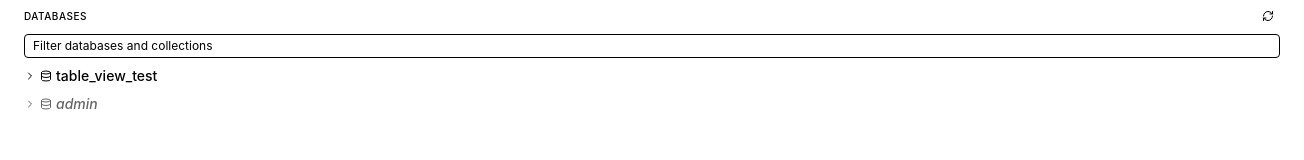
Test: DocumentDatabaseTree › auto-expands a database whose collections match the query
// Pre-load the collection cache so the search has data to match against.
Step 1. Click the list item with aria-label "table_view_test database" → (107, 75), box [12,62,1292,90]
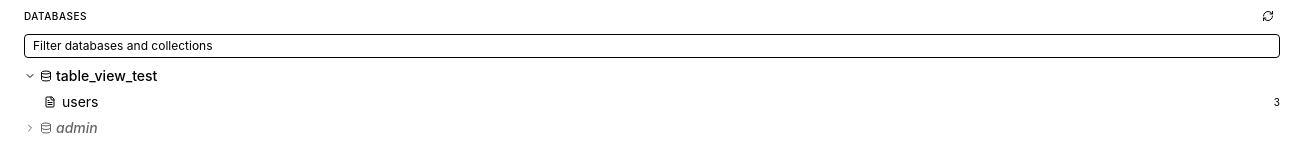
Check: the list item with aria-label "users collection" is shown, box [12,90,1292,114]
// Collapse it again so we can verify the search expands automatically.
Step 2. Click the list item with aria-label "table_view_test database" → (107, 75), box [12,62,1292,90]
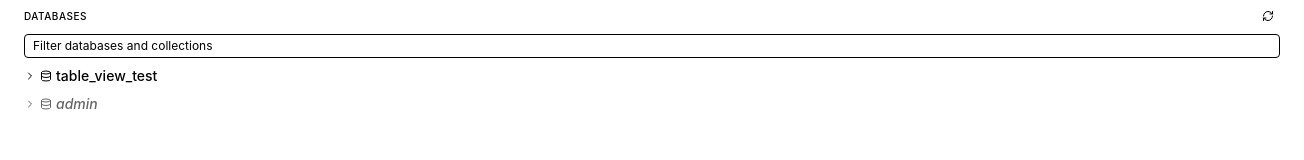
Step 3. Type "user" into the search field labelled "Filter databases and collections" → (652, 46), box [24,34,1280,58]
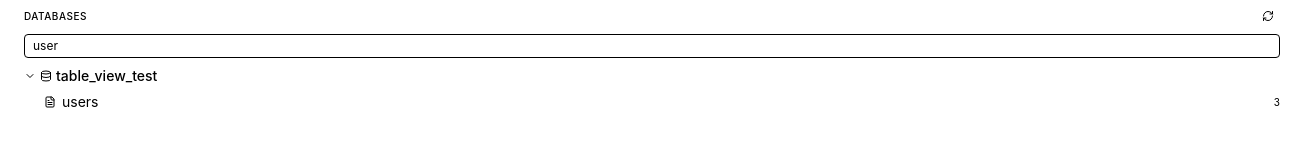
Check: the list item with aria-label "users collection" is shown, box [12,90,1292,114]
